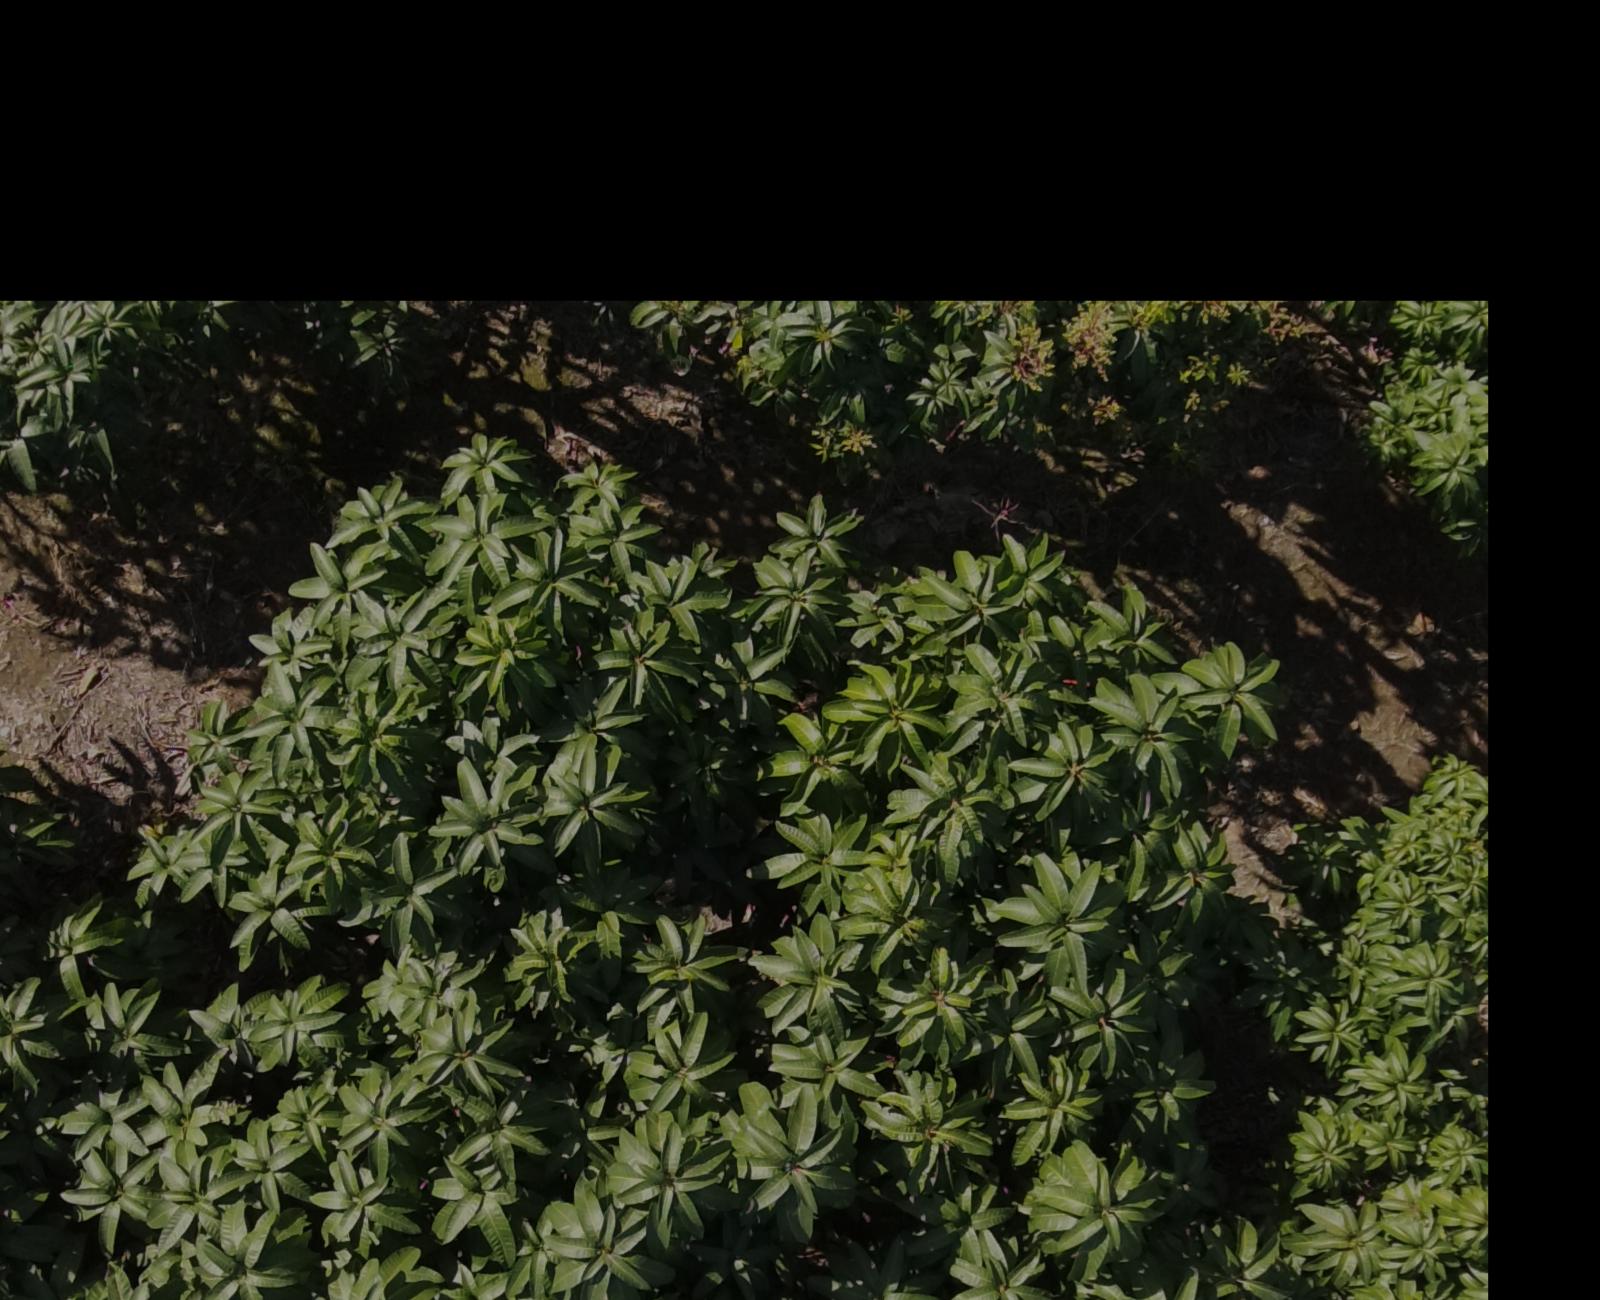flowers: (1186, 300, 1303, 342), (1063, 300, 1116, 378), (933, 300, 1037, 329), (1012, 322, 1053, 390), (1133, 300, 1167, 332), (992, 300, 1033, 318)
